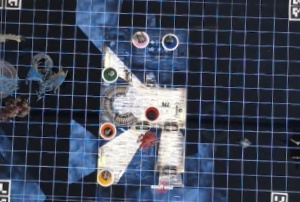blue: (160, 31, 180, 52)
green: (102, 65, 120, 82)
orange: (97, 118, 119, 140)
pink: (131, 28, 150, 47)
red: (143, 103, 161, 121)
yellow: (95, 165, 117, 189)
